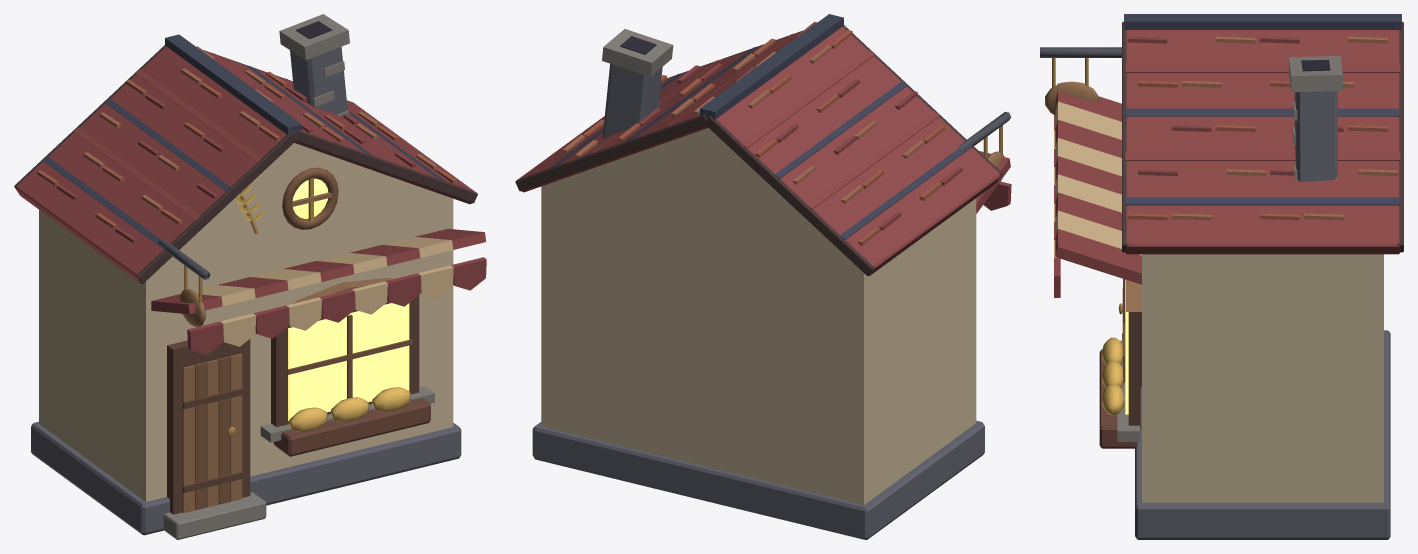
Rendered from village_house_3.glb.
3 views of the same model, side by side, from view 1: azimuth 30°, elevation 25°; view 2: azimuth 150°, elevation 25°; view 3: azimuth 270°, elevation 25° (orthographic). The views are drawn at different scales.
Parts seen in each view (by area): view 1: village_house_3; view 2: village_house_3; view 3: village_house_3.
Boxes of the visible parts, <box> form: village_house_3: <box>14,14,486,539</box>; village_house_3: <box>515,14,1011,539</box>; village_house_3: <box>1040,14,1403,539</box>.
Size of the model in its own units: 2.2 by 2.4 by 1.8.
